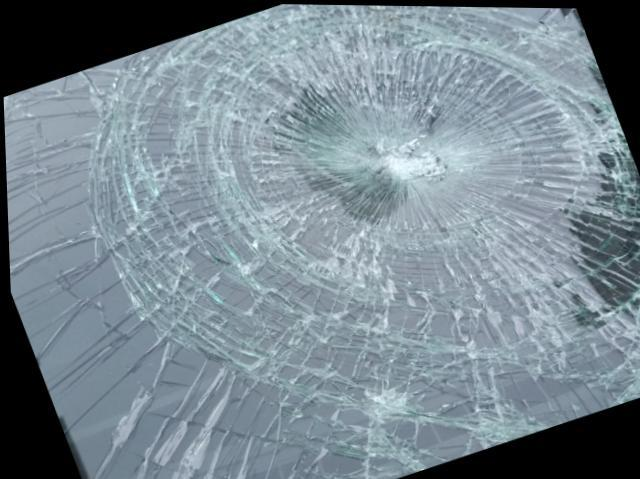glass shatter: (3, 3, 640, 479)
